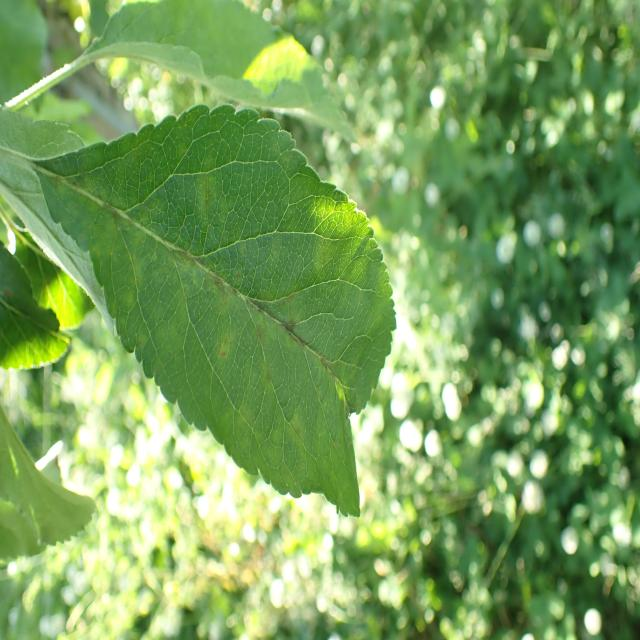scab: (43, 122, 371, 502)
